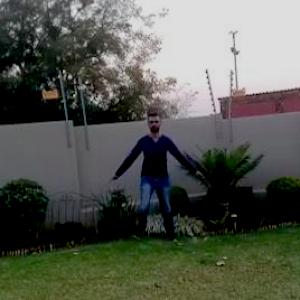land: (106, 107, 209, 244)
